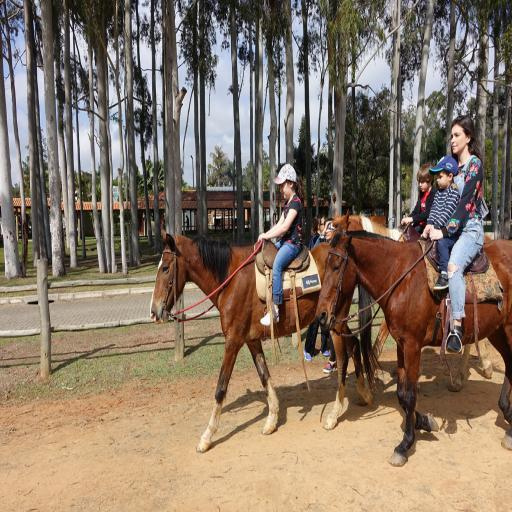horse: (150, 232, 383, 456), (312, 210, 493, 408)
